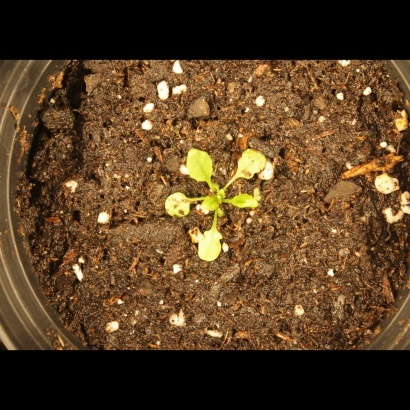leaf: (188, 222, 230, 268), (181, 141, 218, 185), (231, 146, 269, 186), (228, 191, 269, 216), (159, 189, 195, 215), (197, 193, 220, 216)
